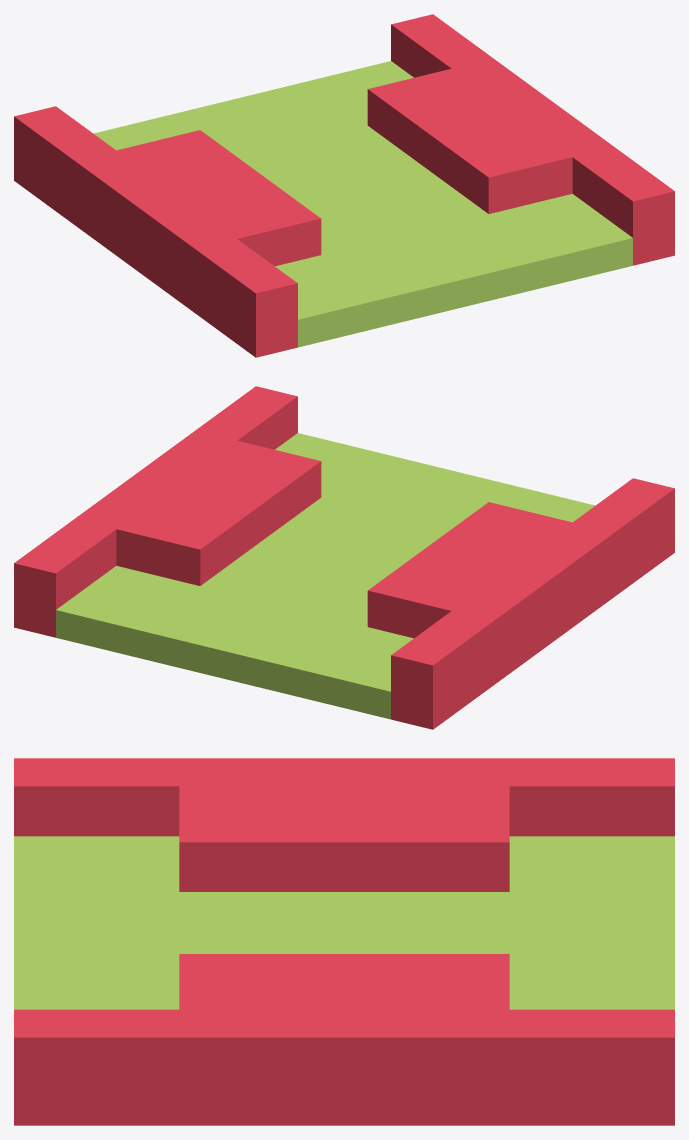
The model's file is narrowBlock.fbx.
3 views of the same model, one above another, from view 1: azimuth 30°, elevation 25°; view 2: azimuth 150°, elevation 25°; view 3: azimuth 270°, elevation 25° (orthographic). The views are drawn at different scales.
Visible parts, largest first — view 1: narrowBlock; view 2: narrowBlock; view 3: narrowBlock.
Part boxes in pixels (x1,y1,x2,y2): narrowBlock: [14, 14, 674, 357]; narrowBlock: [14, 386, 674, 729]; narrowBlock: [14, 758, 674, 1125].
Size of the model in its own units: 10 by 1.47 by 10.
